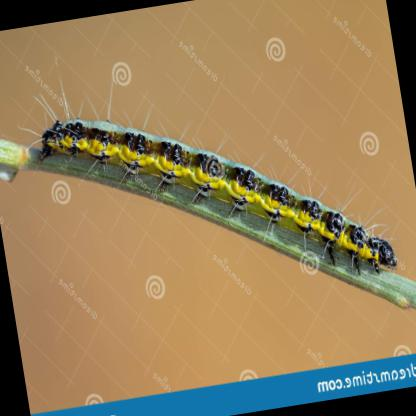pieris: (40, 114, 396, 280)
